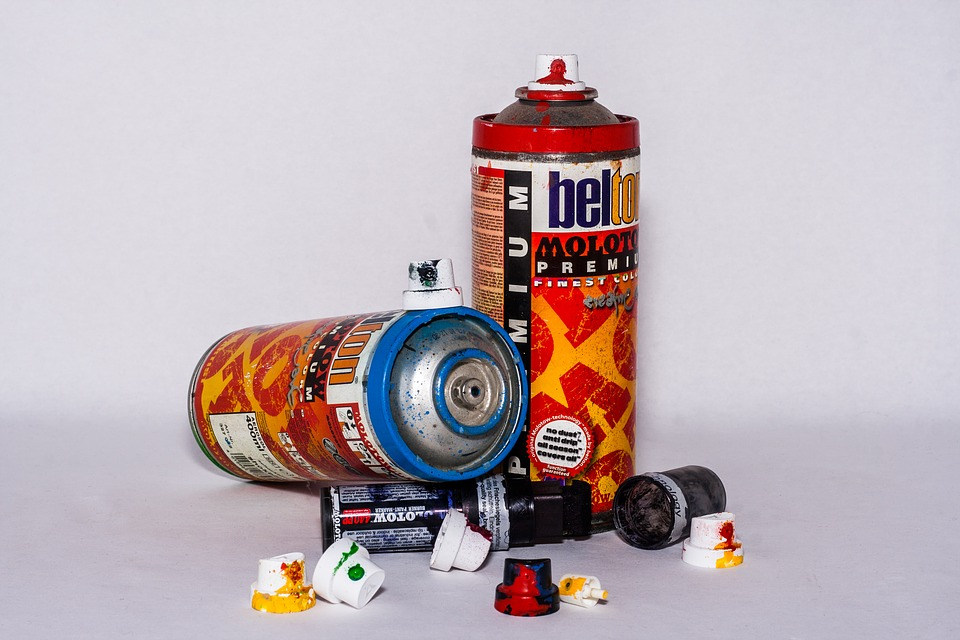Aerosol_cans: (465, 49, 646, 529), (186, 303, 533, 493)
